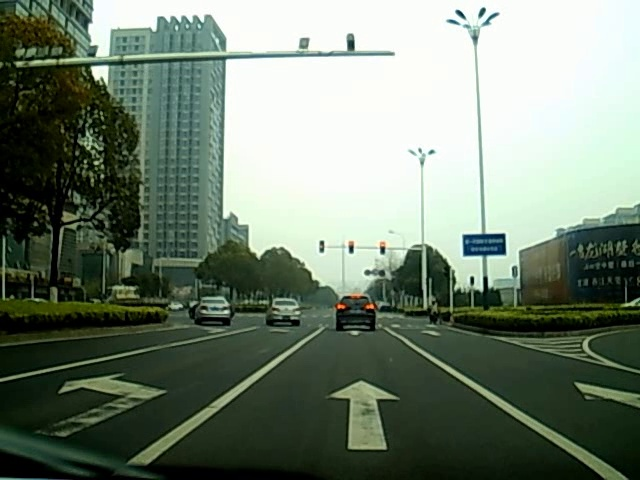Traffic_Light_stop: (347, 240, 354, 256), (379, 241, 386, 256)
